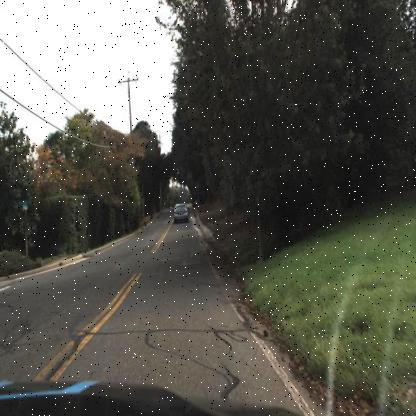car: (172, 200, 191, 226)
